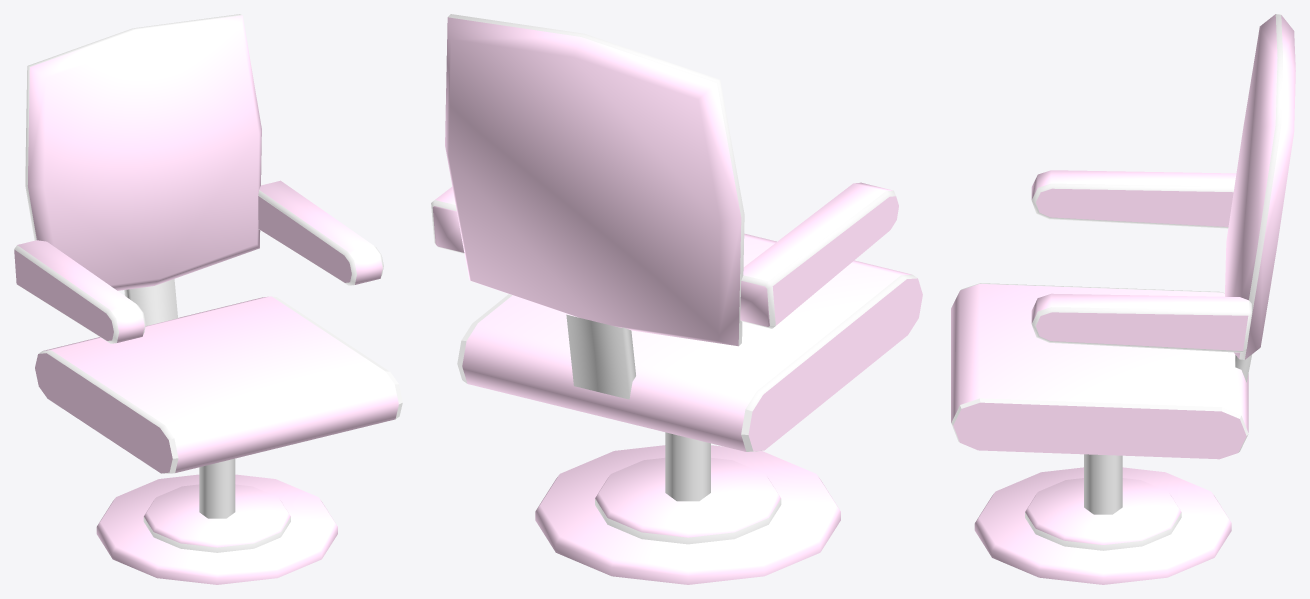
File: Chair3.glb
The picture shows the model from 3 angles, left to right: view 1: azimuth 30°, elevation 25°; view 2: azimuth 150°, elevation 25°; view 3: azimuth 270°, elevation 25°; orthographic projection. The views are drawn at different scales.
Parts seen in each view (by area): view 1: Chair3; view 2: Chair3; view 3: Chair3.
Part boxes in pixels (x1,y1,x2,y2): Chair3: (14,14,402,584); Chair3: (431,14,922,584); Chair3: (951,14,1295,584).
Size of what is drawn, in the model's own units: 0.8823 by 1.39 by 0.9164.
Materials: 2 (2 with a texture image).
